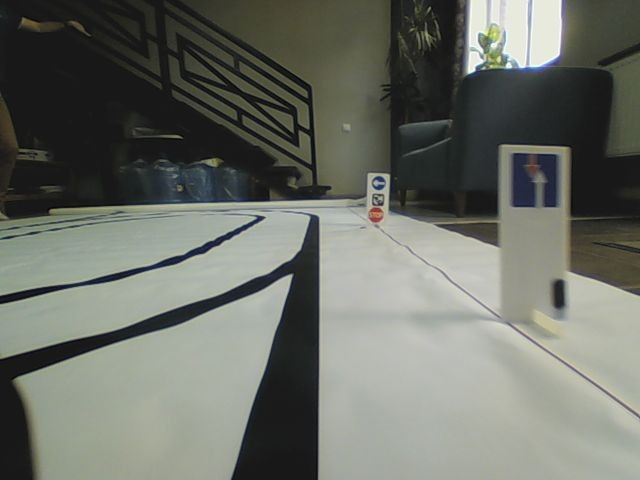Stop: (368, 207, 384, 223)
priority_movement: (510, 151, 560, 210)
